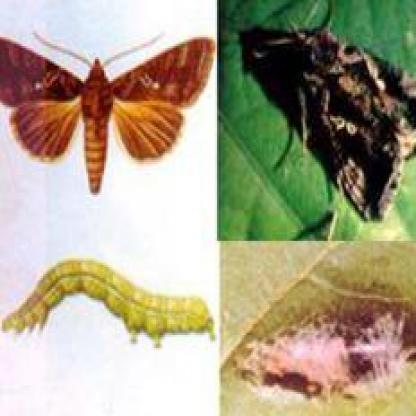armyworm: (1, 19, 209, 205), (241, 0, 416, 219), (0, 248, 218, 362)
